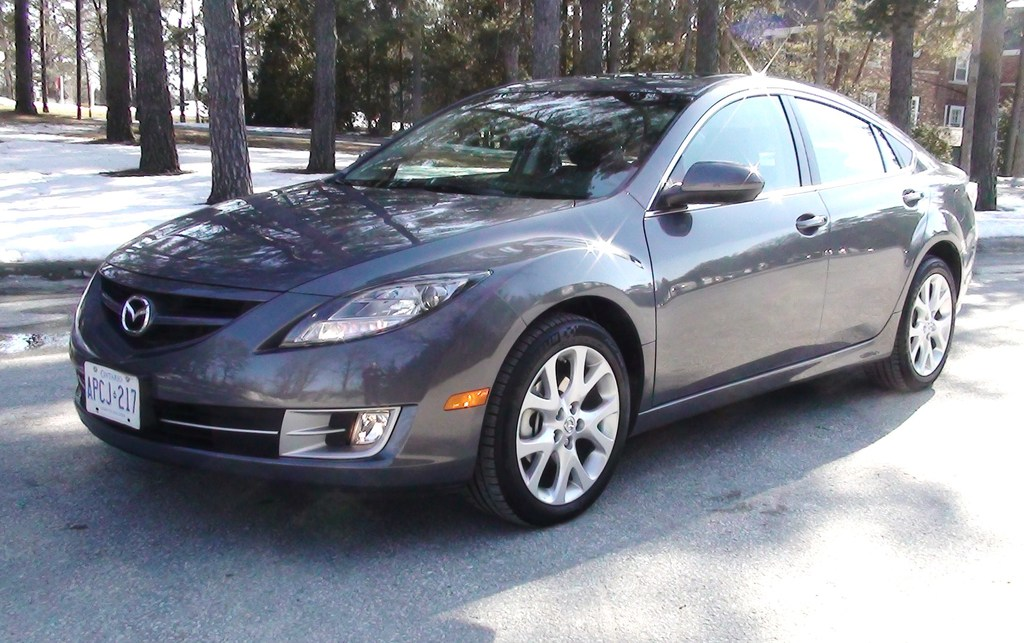Tree: (0, 0, 1024, 211)
